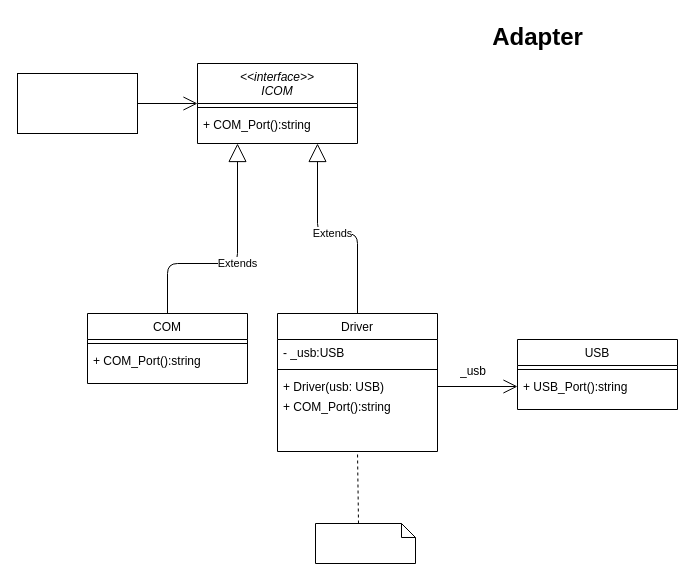
Image size: 695x581. Some labels were removed from this diagram. The shapes that lost their labels are listed below. From the top down, each one's centre as x and y in pixels, then its label:
At pixel 77 103: "Client".
At pixel 365 543: "_usb.USB_Port()".
